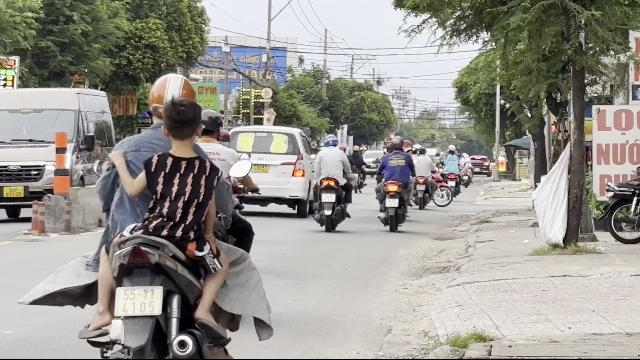helmet: (146, 73, 204, 139), (198, 109, 224, 139)
licenseplate: (114, 286, 162, 316)
motorcyclist: (75, 70, 277, 356)
nohelmet: (160, 101, 204, 143)
